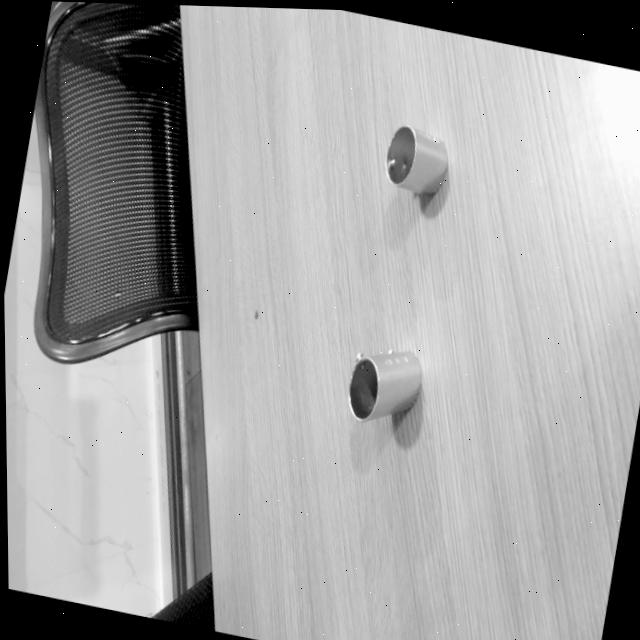Co_Lon: (348, 349, 422, 421)
Co_Nho: (375, 120, 457, 201)
